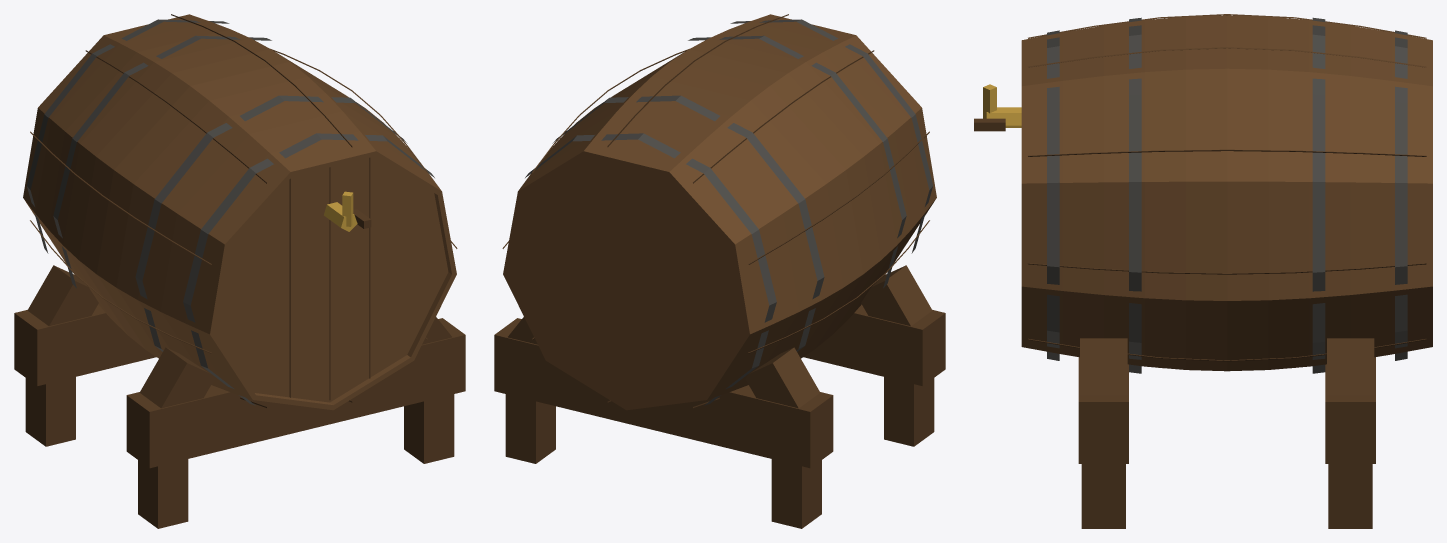
Rendered from keg-a.glb.
3 views of the same model, side by side, from view 1: azimuth 30°, elevation 25°; view 2: azimuth 150°, elevation 25°; view 3: azimuth 270°, elevation 25° (orthographic). The views are drawn at different scales.
Visible parts, largest first — view 1: Body_Wood, Body_WoodDark, Body_Iron, Body_Trim; view 2: Body_Wood, Body_WoodDark, Body_Iron; view 3: Body_Wood, Body_WoodDark, Body_Iron, Body_Trim.
Boxes of the visible parts, x1=… form: Body_Wood: x1=23, y1=14, x2=456, y2=410; Body_WoodDark: x1=14, y1=14, x2=465, y2=528; Body_Iron: x1=26, y1=19, x2=434, y2=405; Body_Trim: x1=324, y1=191, x2=357, y2=231; Body_Wood: x1=503, y1=14, x2=936, y2=410; Body_WoodDark: x1=494, y1=14, x2=945, y2=528; Body_Iron: x1=525, y1=19, x2=933, y2=405; Body_Wood: x1=1021, y1=15, x2=1432, y2=371; Body_WoodDark: x1=974, y1=14, x2=1426, y2=528; Body_Iron: x1=1047, y1=17, x2=1407, y2=373; Body_Trim: x1=983, y1=84, x2=1021, y2=127.
Bounding box in the file's own units: 1.4 × 1.6 × 1.6.
